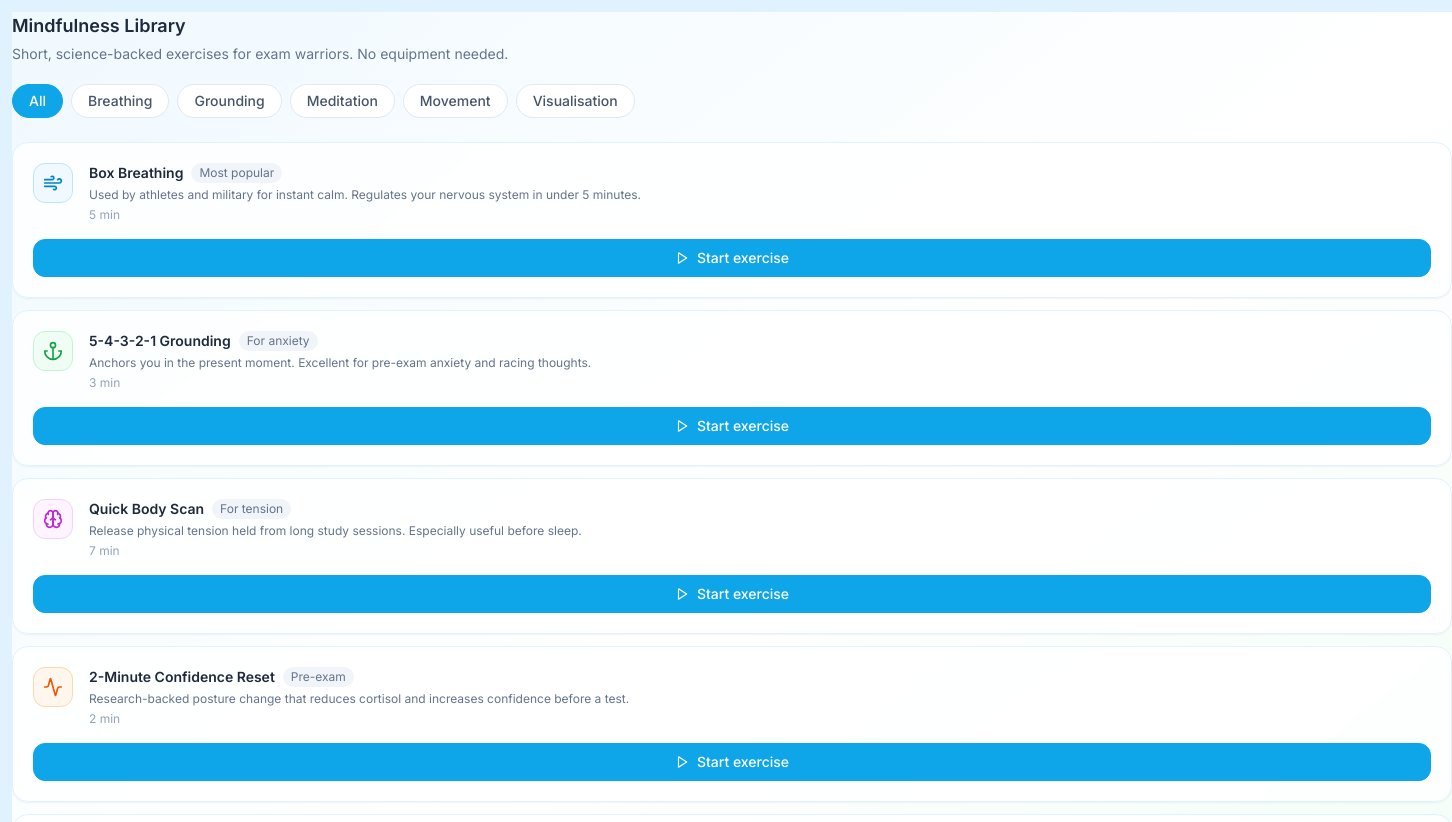
Test: MindfulnessView › marks exercise as done and shows badge
Click the button "Start exercise" below "Box Breathing": click(732, 258) [33,239,1431,277]
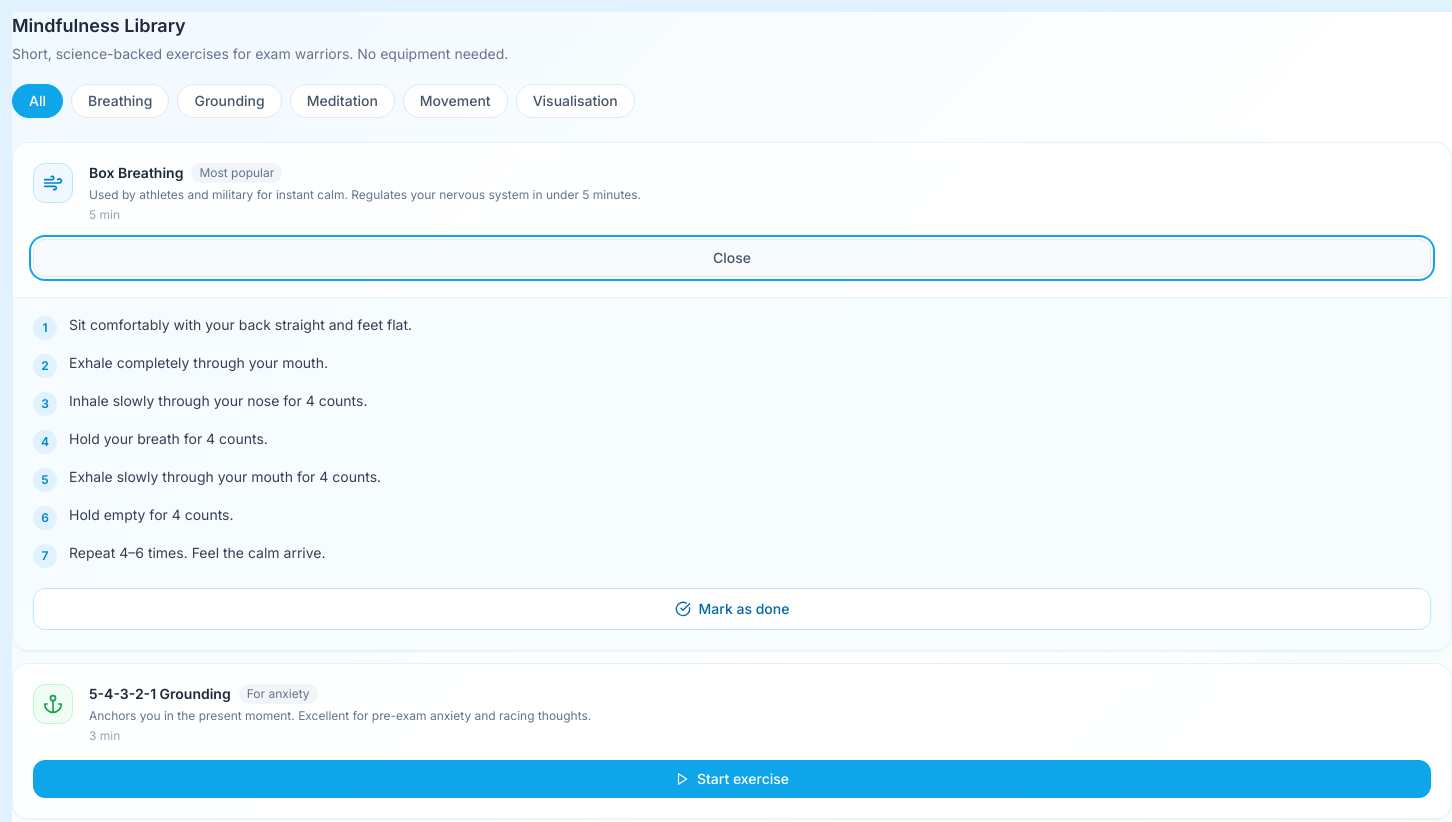
Click the button "Mark as done": click(732, 609) [33,588,1431,630]
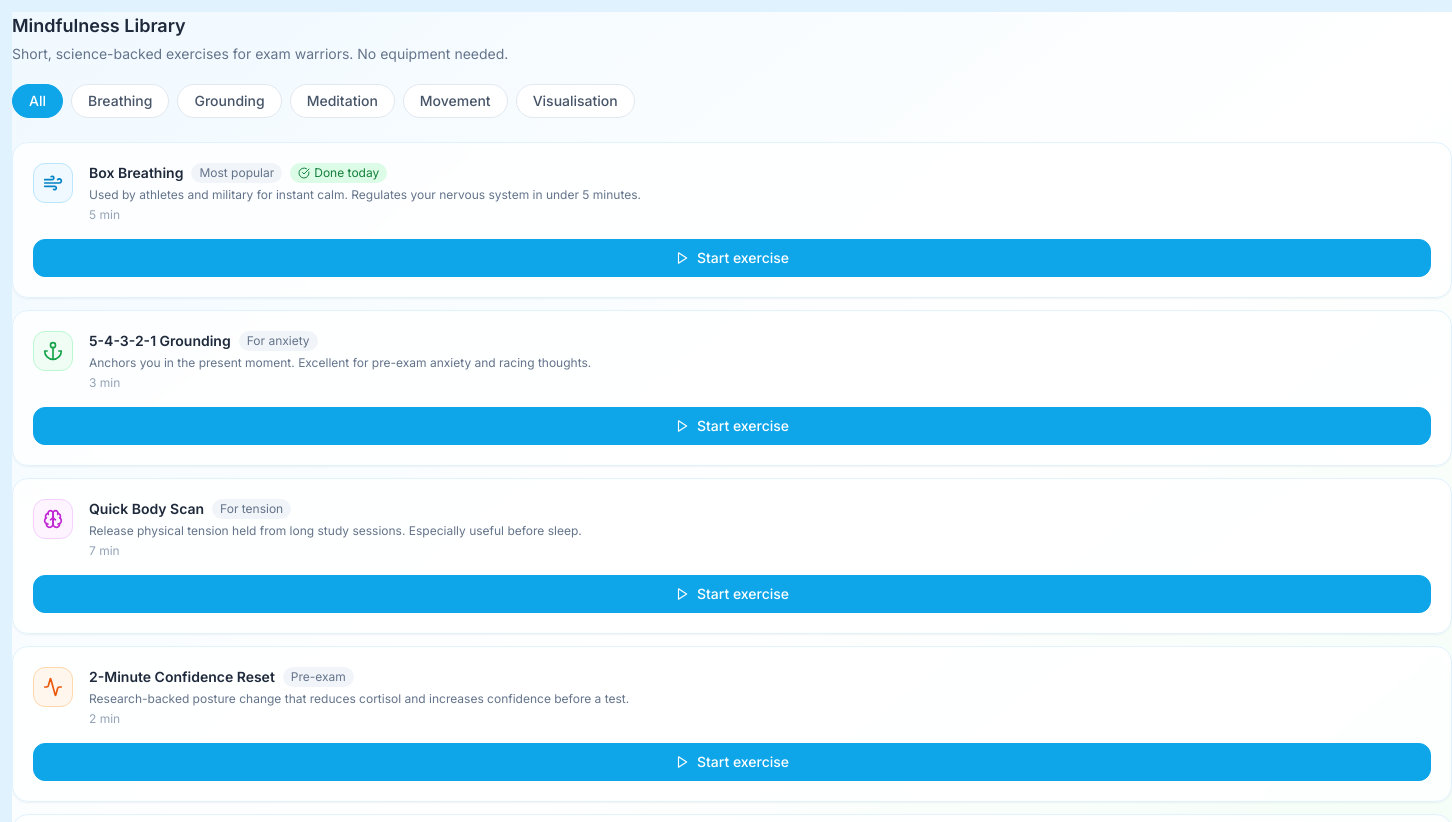
Now the text "Done today" is shown, box [290,163,387,183]
